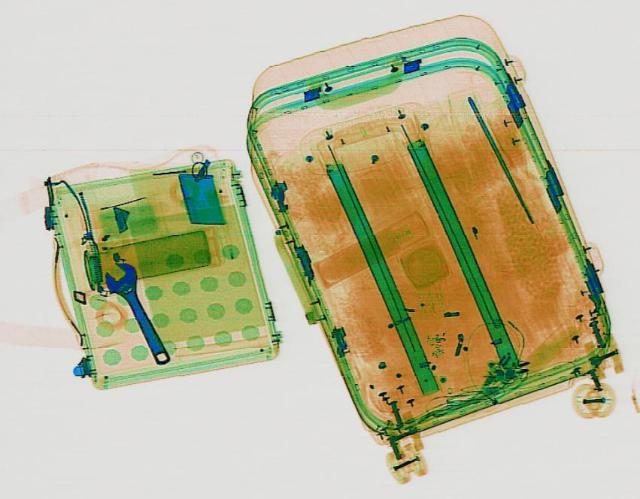Wrench: (95, 257, 179, 368)
